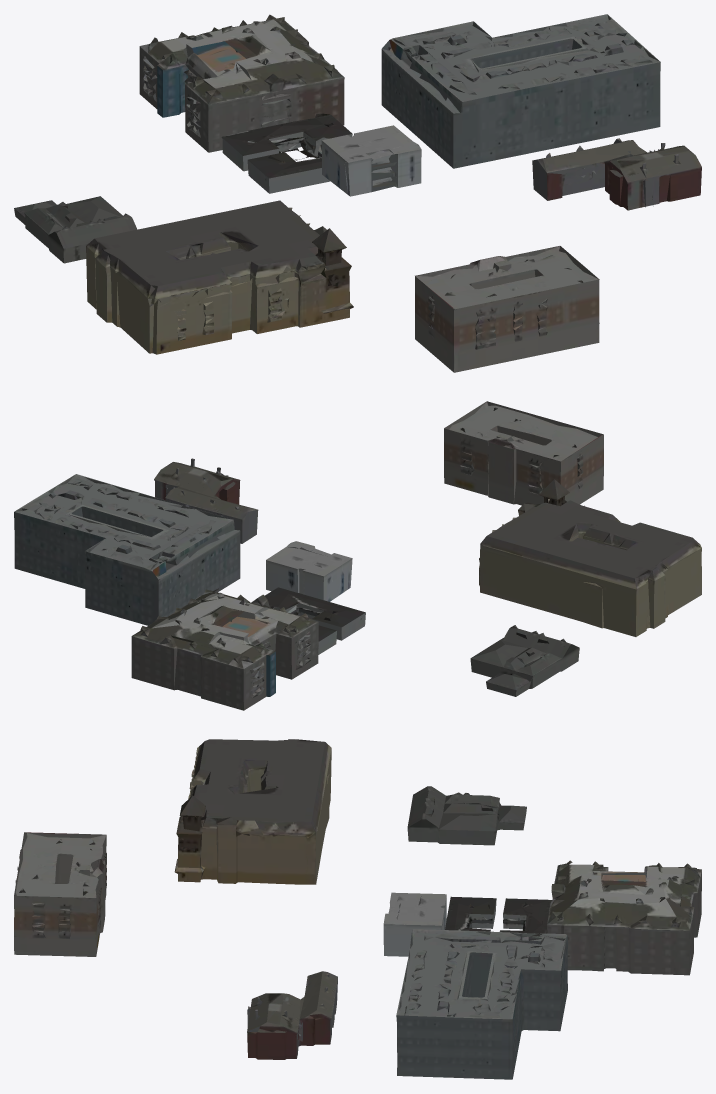
The model's file is t_-3_-3.coat.glb.
3 renders of one model, top to bottom at view 1: azimuth 30°, elevation 25°; view 2: azimuth 150°, elevation 25°; view 3: azimuth 270°, elevation 25°, orthographic. The views are drawn at different scales.
Parts seen in each view (by area): view 1: far; view 2: far; view 3: far.
Part boxes in pixels (bbox=[...]): far: bbox=[14, 14, 701, 372]; far: bbox=[14, 401, 701, 710]; far: bbox=[14, 739, 701, 1079].
Bounding box in the file's own units: 236 × 31.46 × 242.
Materials: 1 (1 with a texture image).
